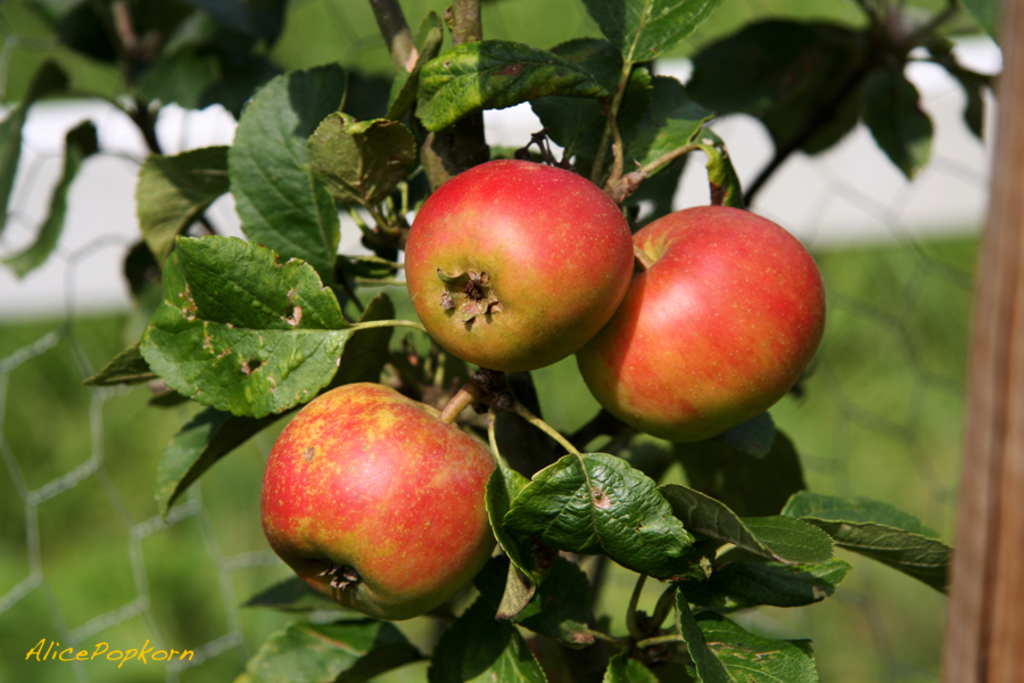Apple: (575, 207, 826, 453), (259, 374, 500, 619), (403, 170, 634, 375)
